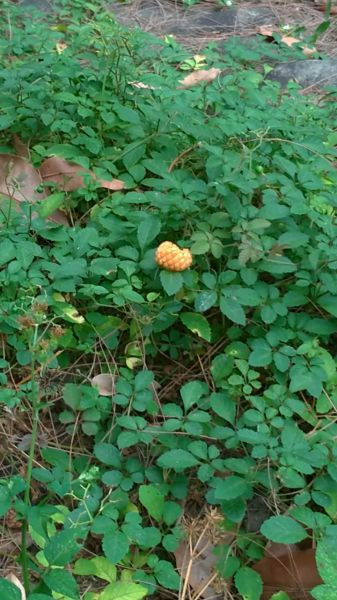eggs: (155, 241, 195, 275)
